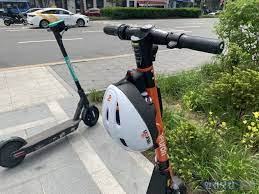kick_board: (2, 21, 98, 168)
kick_handler: (102, 24, 224, 62), (49, 20, 66, 35)
kick_neck: (138, 69, 174, 169), (55, 39, 89, 103)
kick_wheel: (1, 136, 26, 168), (82, 106, 100, 126)
